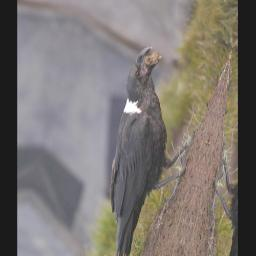Crow: (80, 37, 214, 256)
